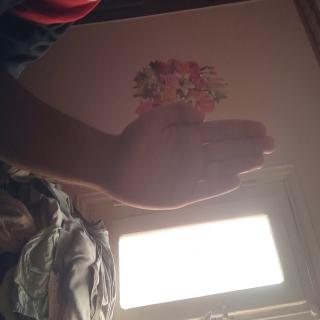SEEN: (77, 55, 161, 290)
